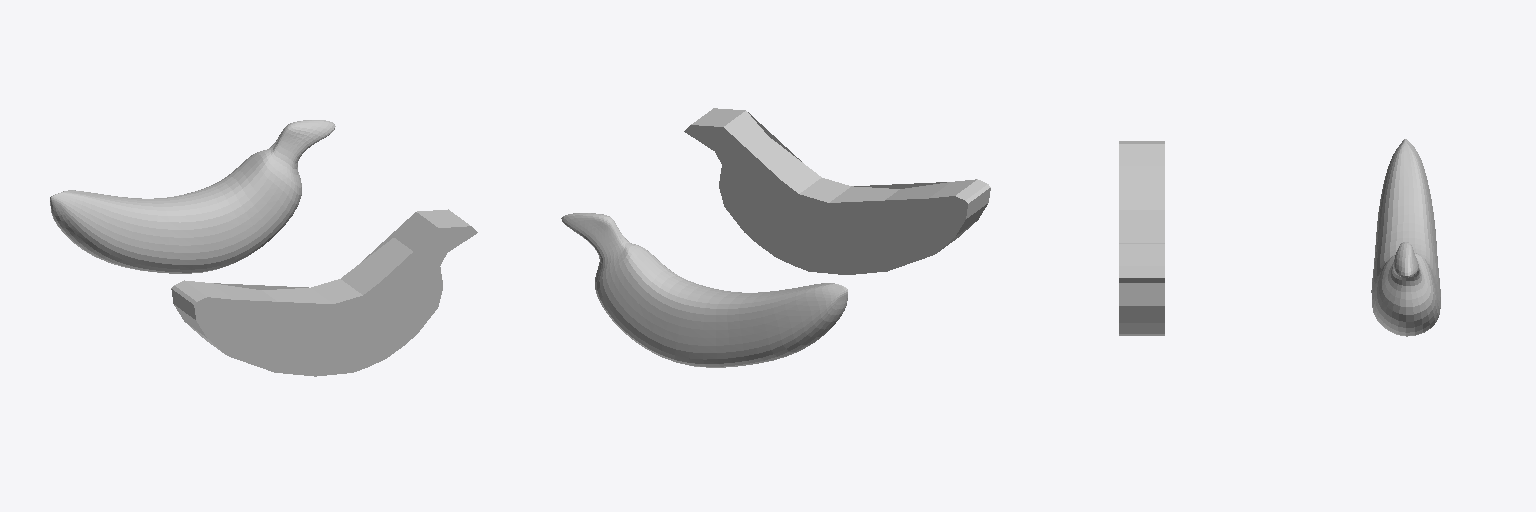
File: ConvexBananaCollider.obj
The picture shows the model from 3 angles: view 1: azimuth 30°, elevation 25°; view 2: azimuth 150°, elevation 25°; view 3: azimuth 270°, elevation 25°; orthographic projection.
Parts seen in each view (by area): view 1: Cube, Cube.001; view 2: Cube, Cube.001; view 3: Cube.001, Cube.
Part boxes in pixels (x1,y1,x2,y2): Cube: (171, 209, 477, 376); Cube.001: (50, 120, 335, 273); Cube: (684, 108, 990, 274); Cube.001: (561, 213, 847, 367); Cube.001: (1371, 139, 1440, 336); Cube: (1119, 141, 1164, 335).
Size of the model in its own units: 12.01 by 4.98 by 11.73.